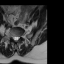CCS_normal: (15, 34, 17, 42)
LFS_severe_stenosis: (19, 33, 21, 39)
LLS_normal: (17, 34, 19, 41)
RFS_normal: (11, 33, 13, 39)
RLS_normal: (13, 34, 15, 41)
